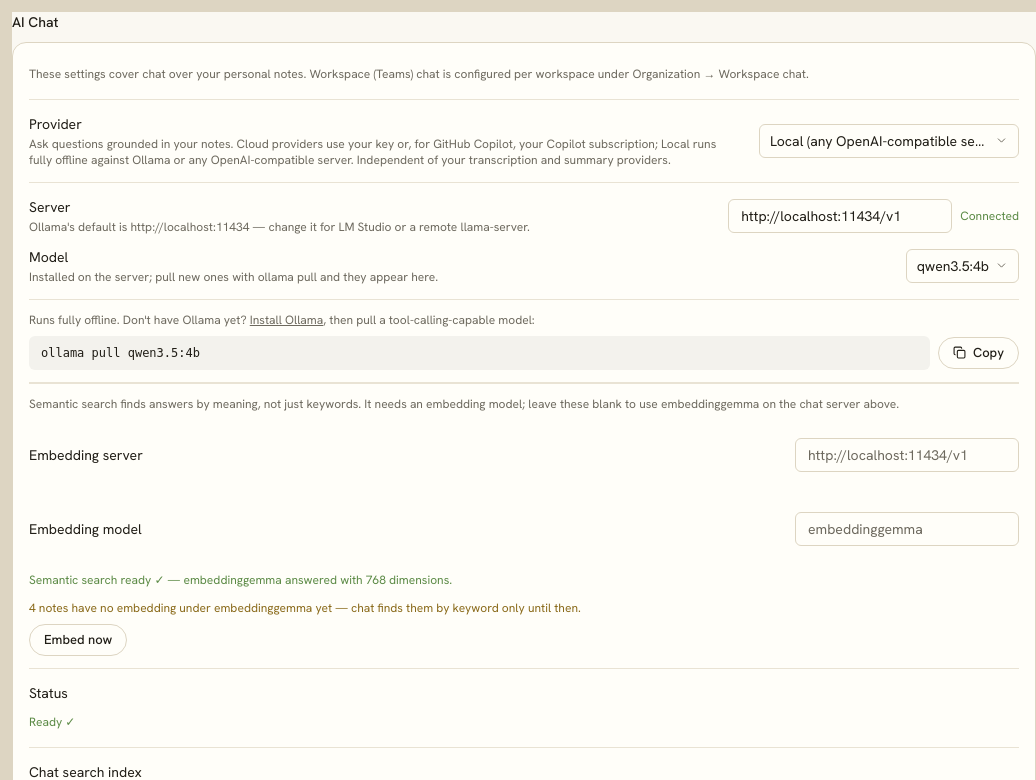
ChatTab readiness › a working embedder with an unembedded corpus says so, and can embed on the spot
Check: the text "Semantic search ready" is shown, box [29,572,183,588]
Check: the text "4 notes have no embedding under embeddinggemma yet" is shown, box [29,600,581,616]
Step 1. Click the button "Embed now" → (78, 640), box [29,624,127,656]
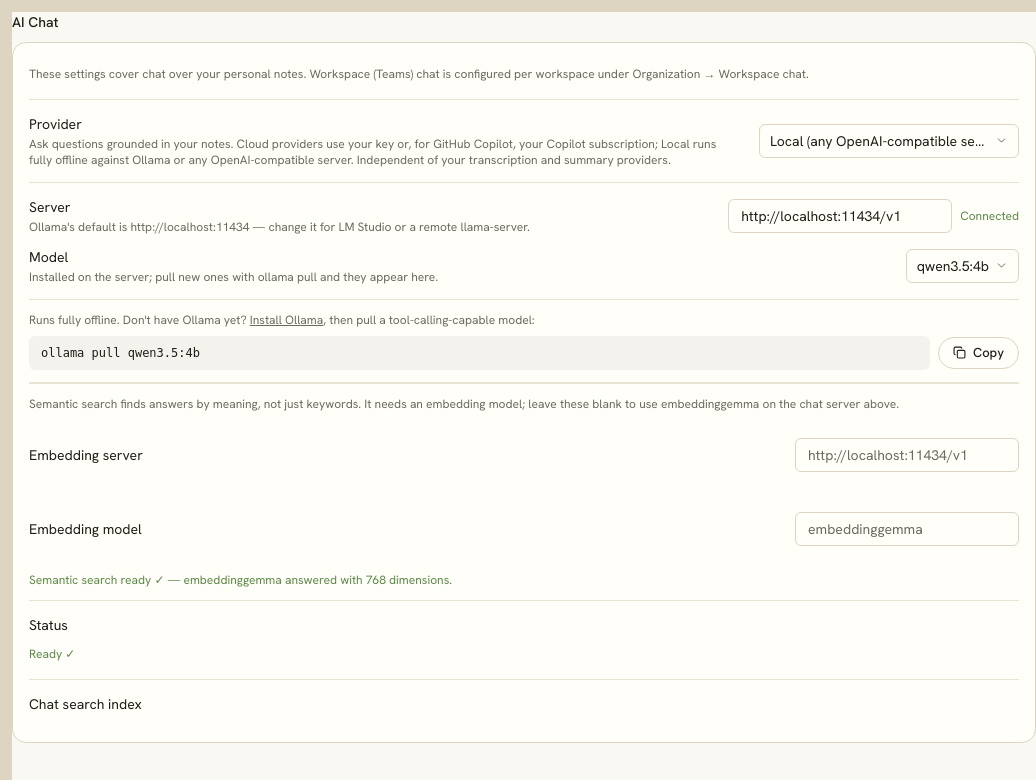
Check: the text "no embedding under" is gone
